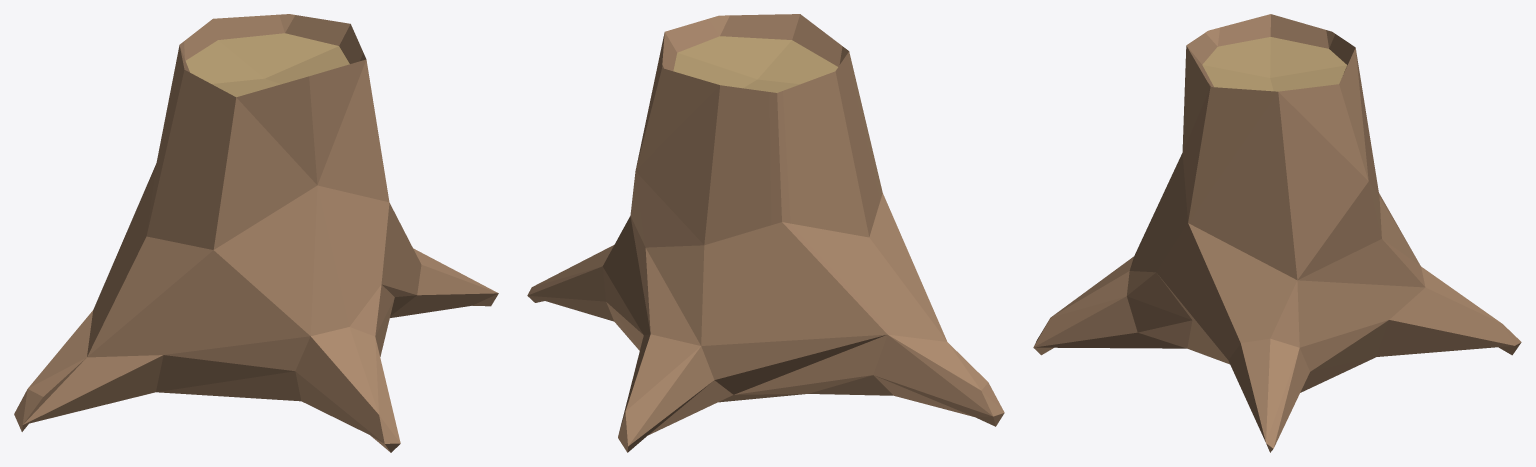
File: trunk1.fbx
The picture shows the model from 3 angles, left to right: view 1: azimuth 30°, elevation 25°; view 2: azimuth 150°, elevation 25°; view 3: azimuth 270°, elevation 25°; orthographic projection. The views are drawn at different scales.
Visible parts, largest first — view 1: trunk1; view 2: trunk1; view 3: trunk1.
Boxes of the visible parts, bbox=[...] form: trunk1: bbox=[14, 14, 498, 452]; trunk1: bbox=[527, 14, 1004, 452]; trunk1: bbox=[1033, 14, 1521, 452].
Size of the model in its own units: 73.81 by 48.38 by 68.28.
